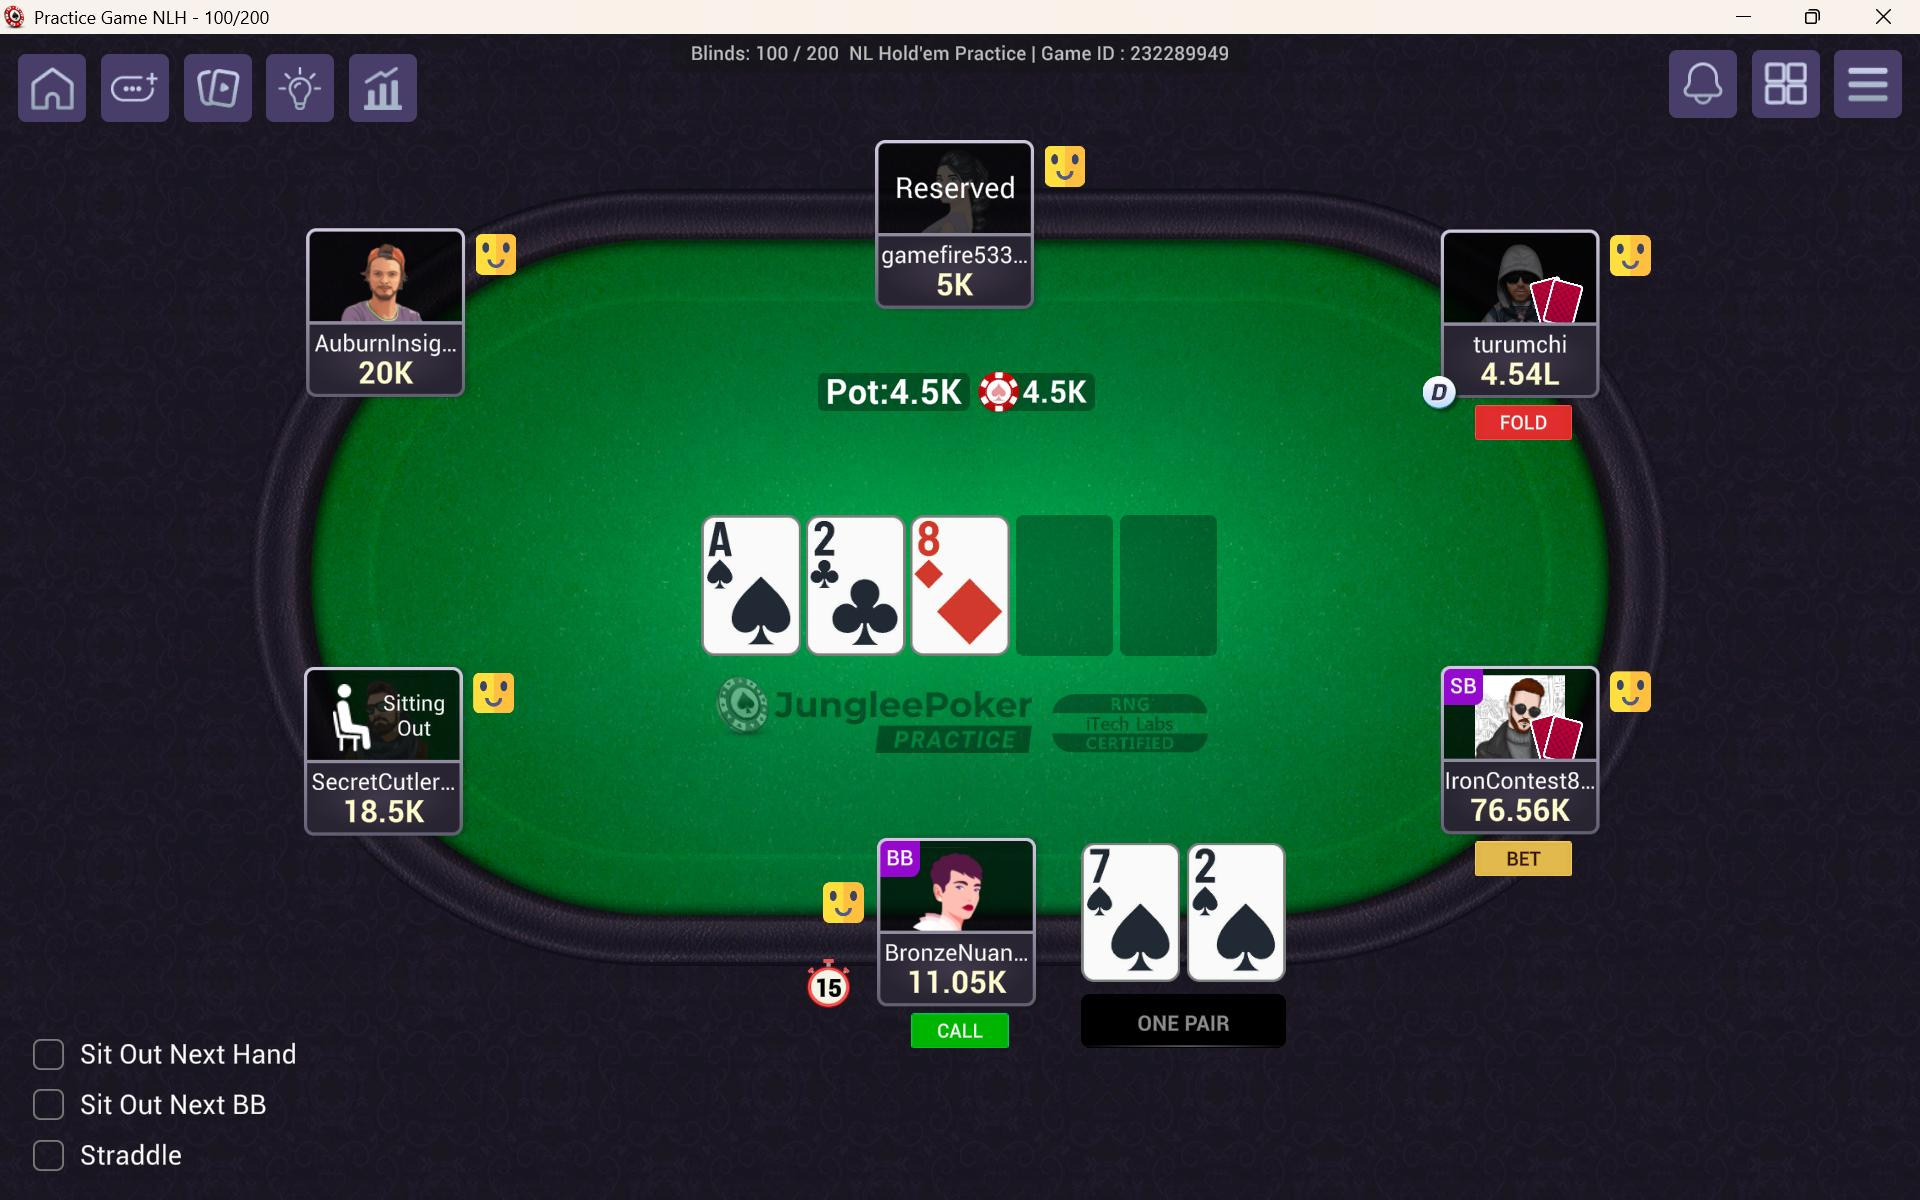card1_rank: (1082, 845, 1135, 890)
card1_suite_spades: (1110, 903, 1178, 980)
card2_rank: (1185, 847, 1245, 894)
card2_suite_spades: (1215, 900, 1283, 984)
flop1_rank: (702, 520, 760, 567)
flop1_suite_spades: (730, 581, 798, 653)
flop2_rank: (813, 516, 863, 565)
flop2_suite_club: (829, 581, 900, 650)
flop3_rank: (908, 517, 965, 567)
flop3_suite_diamond: (934, 582, 1005, 653)
my_stack: (903, 959, 1023, 1002)
position_BB: (881, 841, 918, 875)
position_SB: (1444, 672, 1485, 708)
total_pot: (810, 371, 1103, 408)
villian1_name: (310, 763, 458, 798)
villian1_stack: (335, 795, 451, 829)
villian2_name: (312, 328, 460, 358)
villian2_stack: (343, 355, 423, 390)
villian3_name: (875, 238, 1035, 267)
villian3_stack: (921, 267, 1008, 306)
villian4_name: (1447, 322, 1598, 355)
villian4_stack: (1468, 353, 1577, 390)
villian5_name: (1450, 763, 1595, 798)
villian5_stack: (1460, 798, 1583, 829)
